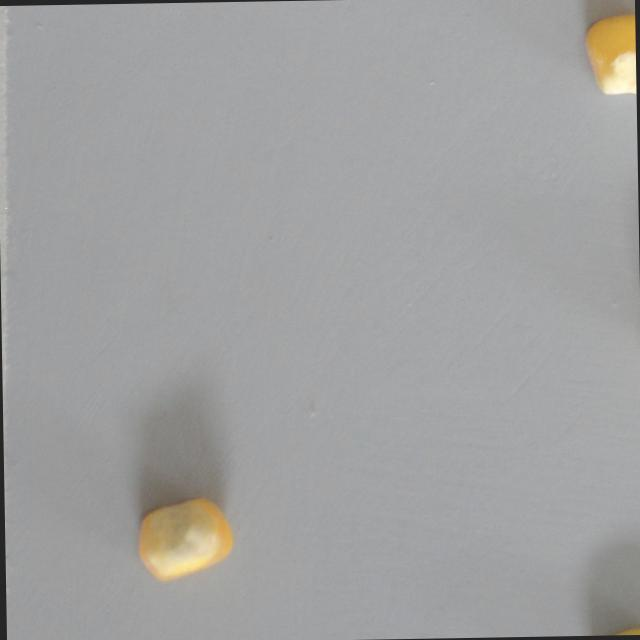no_canjicado: (133, 492, 237, 584), (583, 11, 636, 98)
